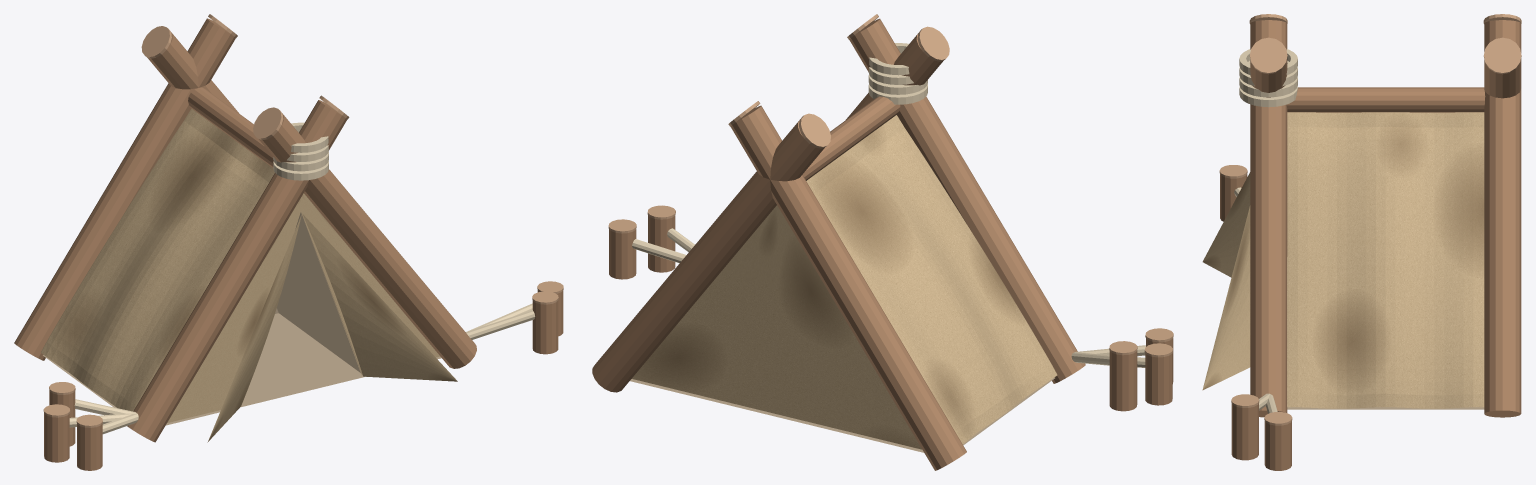
Rendered from tienda_v3.glb.
3 views of the same model, side by side, from view 1: azimuth 30°, elevation 25°; view 2: azimuth 150°, elevation 25°; view 3: azimuth 270°, elevation 25° (orthographic). The views are drawn at different scales.
Visible parts, largest first — view 1: parte_9, parte_0, parte_4, parte_2, parte_19, parte_13, parte_12, parte_17, parte_18, parte_14, parte_8, parte_6 (+6 smaller); view 2: parte_9, parte_11, parte_4, parte_6, parte_0, parte_8, parte_26, parte_23, parte_2, parte_32, parte_12, parte_29 (+2 smaller); view 3: parte_10, parte_6, parte_2, parte_8, parte_19, parte_18, parte_29, parte_32, parte_1, parte_5, parte_4, parte_0 (+5 smaller).
Part boxes in pixels (x1,y1,x2,y2): parte_9: (41, 108, 274, 411); parte_0: (127, 100, 347, 442); parte_4: (14, 18, 235, 360); parte_2: (259, 113, 476, 368); parte_19: (302, 214, 457, 381); parte_13: (167, 199, 300, 422); parte_12: (43, 313, 441, 425); parte_17: (277, 213, 361, 373); parte_18: (207, 214, 301, 442); parte_14: (300, 193, 440, 375); parte_8: (188, 87, 273, 167); parte_6: (147, 32, 238, 112); parte_9: (806, 115, 1057, 444); parte_11: (632, 205, 921, 449); parte_4: (730, 105, 966, 470); parte_6: (592, 120, 824, 392); parte_0: (849, 18, 1085, 383); parte_8: (802, 96, 900, 180); parte_26: (1109, 351, 1137, 411); parte_23: (1145, 353, 1172, 405); parte_2: (846, 33, 943, 119); parte_32: (609, 229, 636, 279); parte_12: (630, 377, 1054, 452); parte_29: (648, 215, 675, 272); parte_10: (1287, 112, 1484, 408); parte_6: (1484, 20, 1521, 417); parte_2: (1250, 20, 1287, 417); parte_8: (1286, 87, 1485, 112); parte_19: (1202, 205, 1250, 390); parte_18: (1202, 172, 1250, 277); parte_29: (1231, 403, 1258, 460); parte_32: (1264, 421, 1291, 470); parte_1: (1249, 37, 1287, 74); parte_5: (1483, 37, 1521, 74); parte_4: (1484, 59, 1521, 98); parte_0: (1250, 59, 1287, 97).
Bounding box in the file's own units: 3.24 × 1.79 × 1.64.
Materials: 6 (1 with a texture image).
